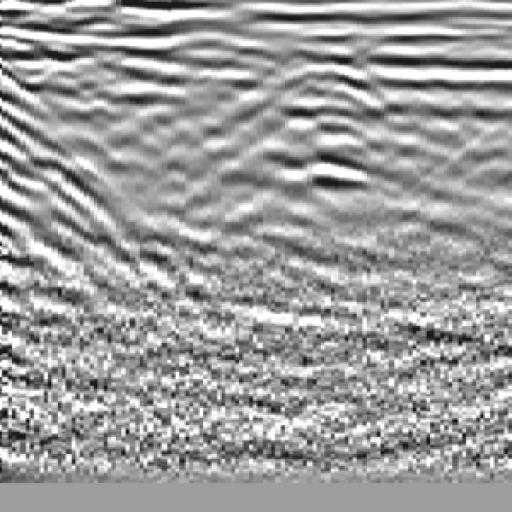metalic: (252, 40, 400, 264)
nonmetalic: (1, 44, 108, 270)
